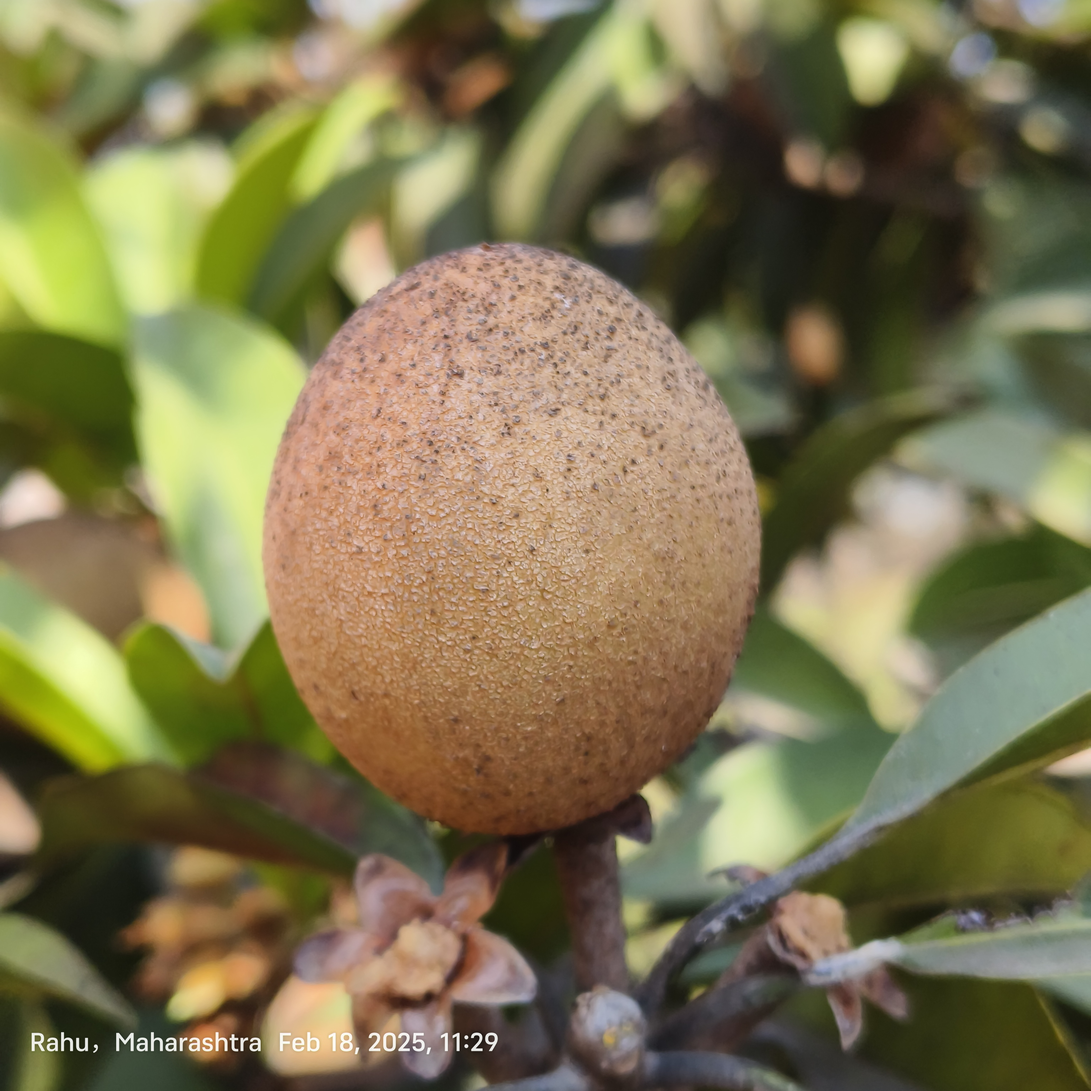matang: (253, 240, 768, 843)
